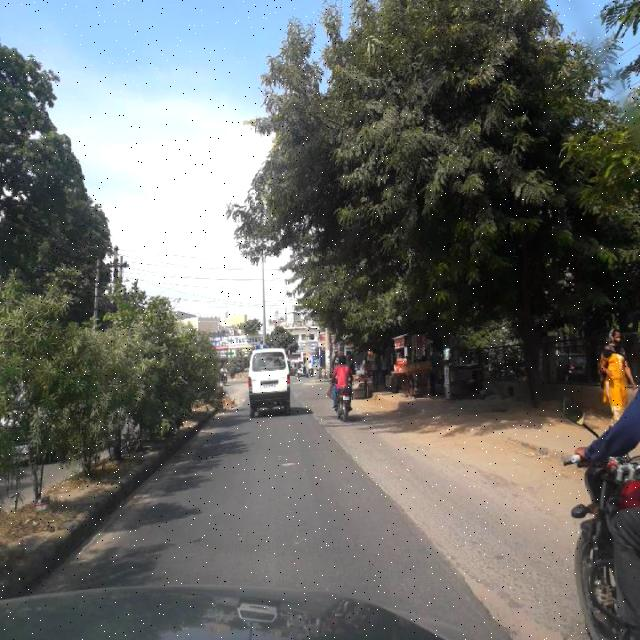D40: (439, 538, 558, 634)
